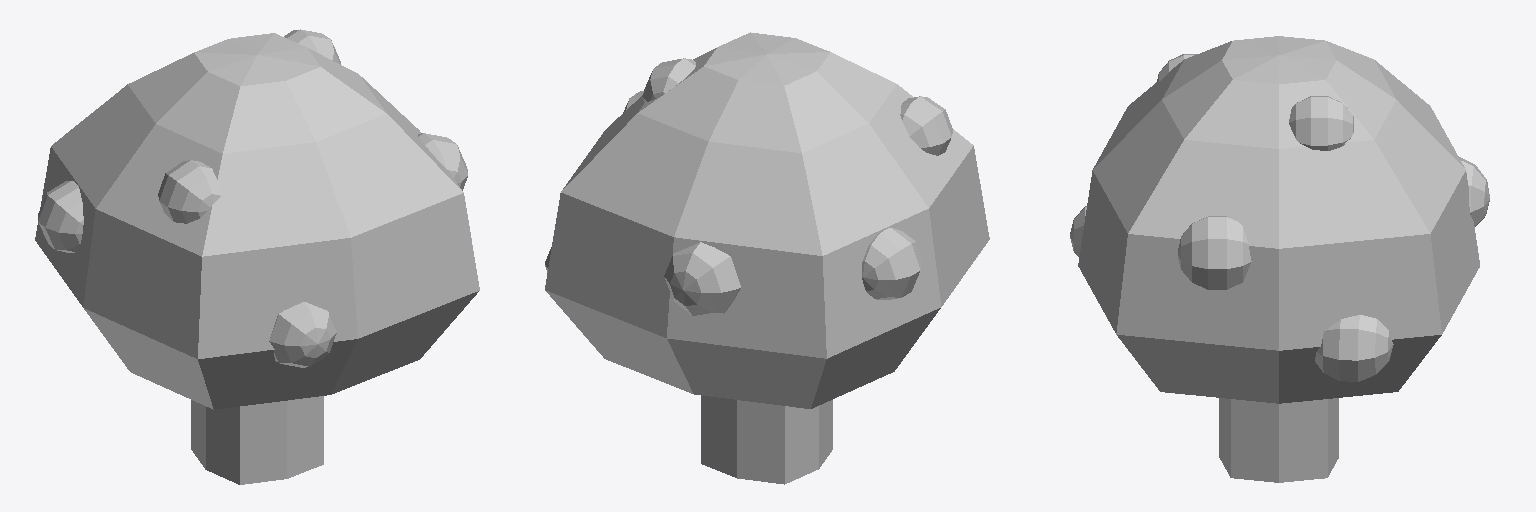
Rendered from ForestTreeAppleShort.obj.
The picture shows the model from 3 angles: view 1: azimuth 30°, elevation 25°; view 2: azimuth 150°, elevation 25°; view 3: azimuth 270°, elevation 25°; orthographic projection.
Visible parts, largest first — view 1: ForestTreeApplesShort; view 2: ForestTreeApplesShort; view 3: ForestTreeApplesShort.
Part boxes in pixels (x1,y1,x2,y2): ForestTreeApplesShort: (35, 29, 479, 484); ForestTreeApplesShort: (545, 32, 989, 484); ForestTreeApplesShort: (1070, 36, 1489, 482).
Size of the model in its own units: 173 by 183 by 173.